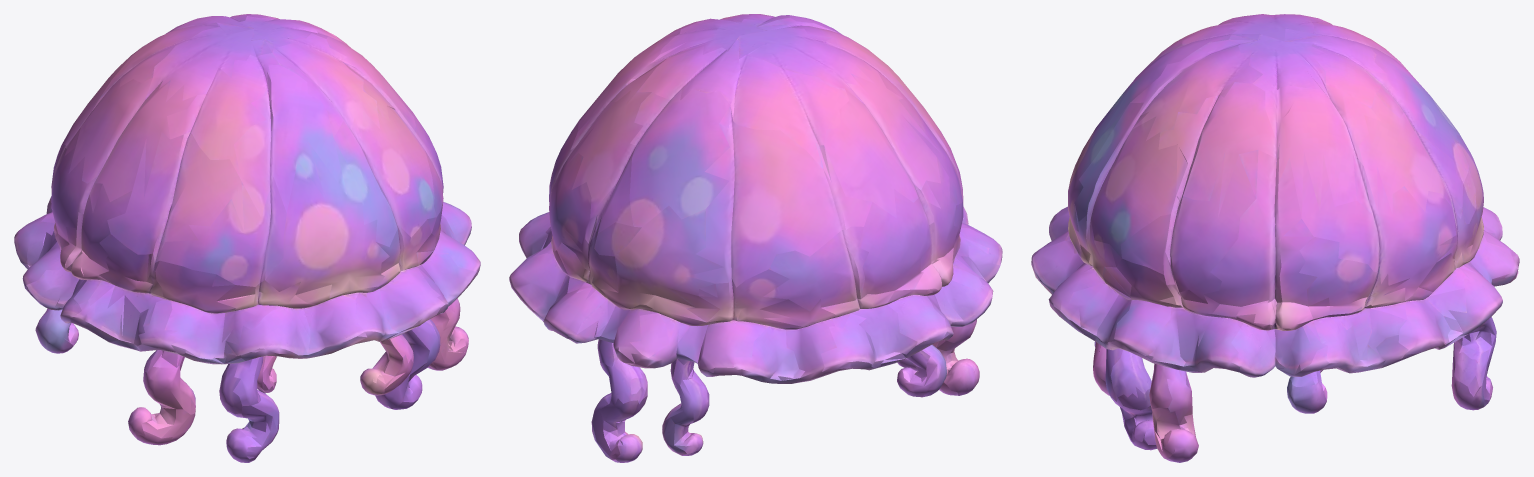
File: jellyfish_hat.glb
The picture shows the model from 3 angles, left to right: view 1: azimuth 30°, elevation 25°; view 2: azimuth 150°, elevation 25°; view 3: azimuth 270°, elevation 25°; orthographic projection. The views are drawn at different scales.
Visible parts, largest first — view 1: Mesh_0; view 2: Mesh_0; view 3: Mesh_0.
Boxes of the visible parts, bbox=[...] form: Mesh_0: bbox=[14, 14, 480, 462]; Mesh_0: bbox=[509, 14, 1002, 462]; Mesh_0: bbox=[1031, 14, 1519, 462].
Bounding box in the file's own units: 0.9937 × 0.8289 × 1.
1 material, 1 textured.
